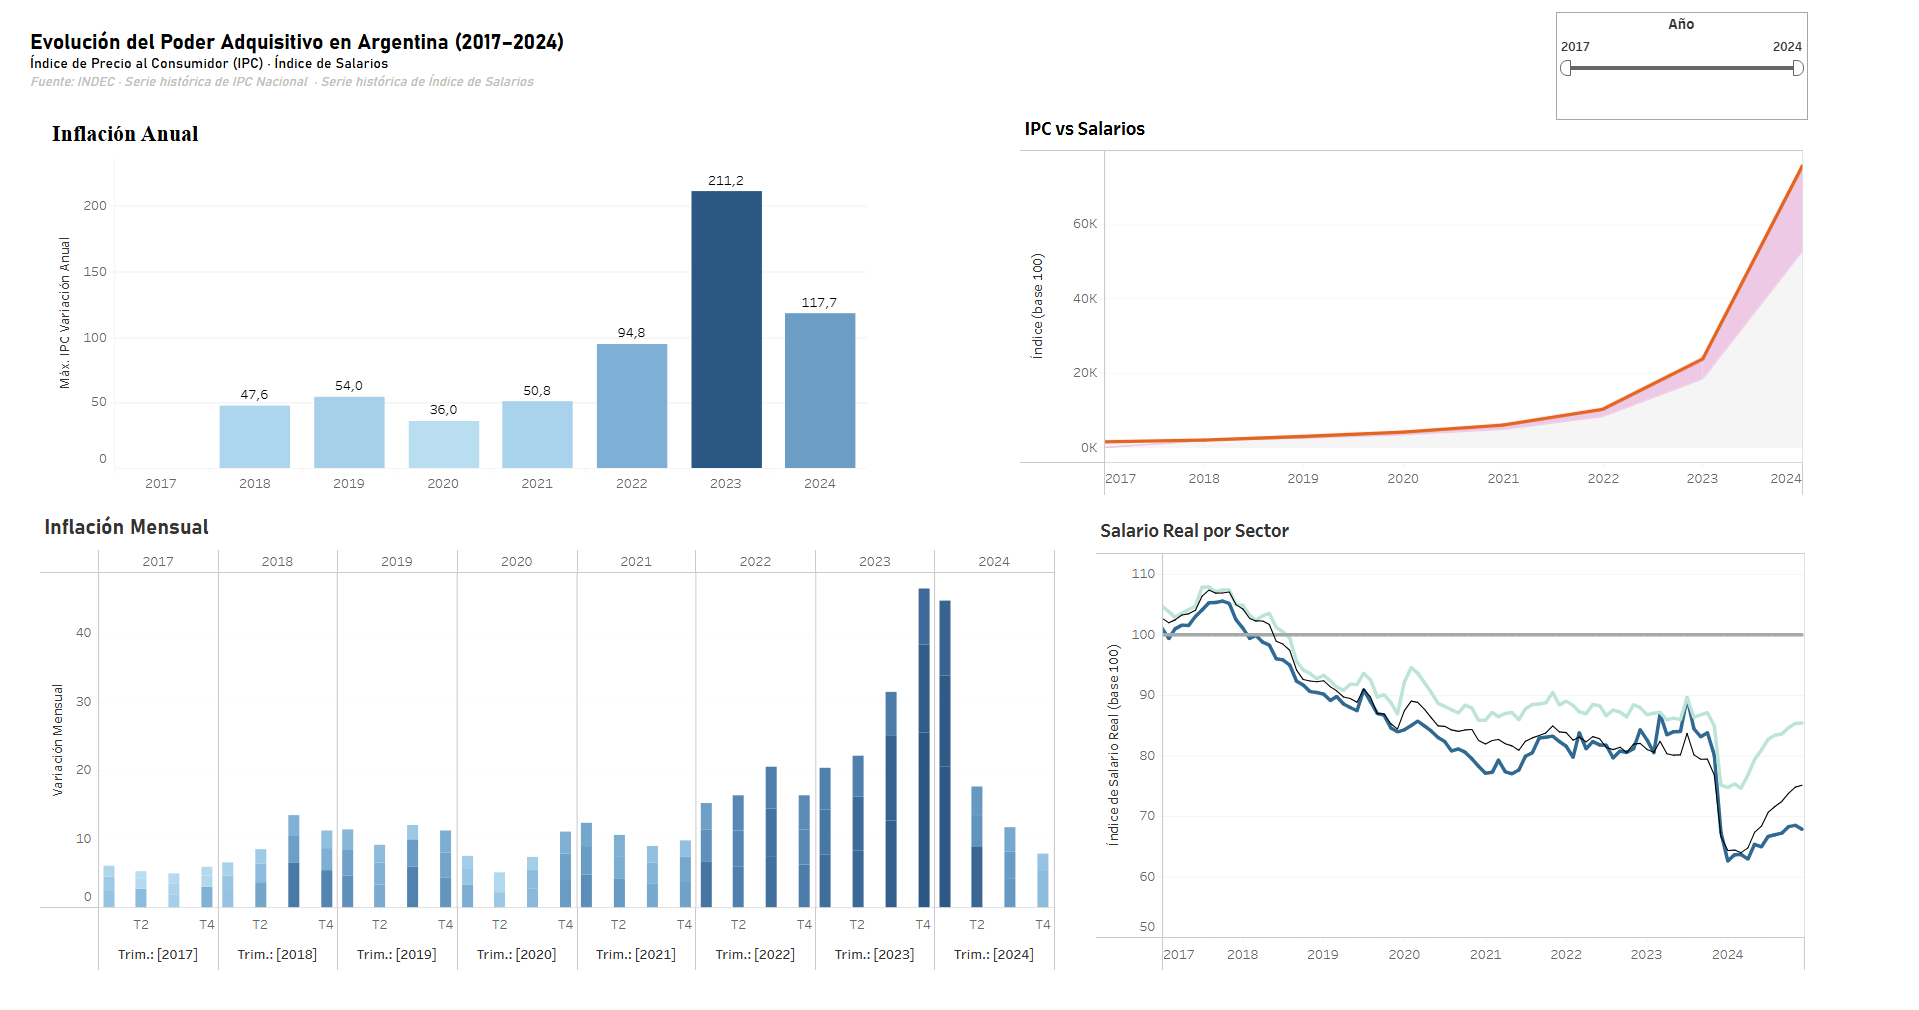

The dashboard page shown, as its layout file describes it:
{"tool":"tableau","page":{"name":"Presentación","canvas":[1000,1000],"units":"permille","ordinal":0},"visuals":[{"type":"text","box":[15.5,16.9,310.7,87.6]},{"type":"filter","title":"IPC vs Salarios","param":"[federated.0gtka810mn2dox1f3gzgf0w6ykmx].[yr:fecha:qk]","box":[456.6,19.1,101.2,71.9]},{"type":"worksheet","title":"IPC vs Salarios","mark":"Area","rows":["Calculation_2065205976879105"],"cols":["fecha"],"box":[531,107.9,408.3,377.5]},{"type":"worksheet","title":"Inflación Anual","mark":"Bar","rows":["Calculation_2065206011633672"],"cols":["fecha"],"box":[24.6,111.2,427.2,370.8]},{"type":"worksheet","title":"Inflación Mensual","mark":"Bar","rows":["Calculation_2065205972918272"],"cols":["fecha","fecha"],"box":[20.5,496.8,529,452.3]},{"type":"worksheet","title":"Salario Real por Sector","mark":"Line","rows":["Calculation_2065205998157828"],"cols":["fecha"],"box":[570.5,500,369.8,449.2]}]}

Visuals, with their boxes on the dashboard's canvas, which has no fixed pixel size, in thousandths of its width and height (x1, y1, x2, y2). These are canvas units, not pixel positions in the 1919x1010 screenshot, which may show the page scaled, cropped or inside an application window:
text: x1=16 y1=17 x2=326 y2=104
"IPC vs Salarios" filter: x1=457 y1=19 x2=558 y2=91
"IPC vs Salarios" worksheet (Area marks): x1=531 y1=108 x2=939 y2=485
"Inflación Anual" worksheet (Bar marks): x1=25 y1=111 x2=452 y2=482
"Inflación Mensual" worksheet (Bar marks): x1=20 y1=497 x2=550 y2=949
"Salario Real por Sector" worksheet (Line marks): x1=570 y1=500 x2=940 y2=949
